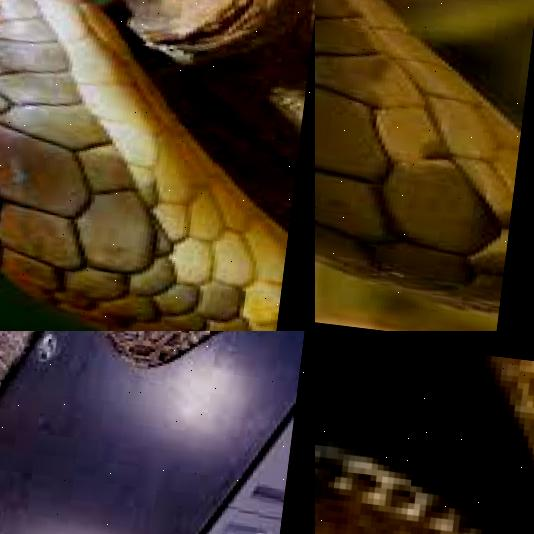snake: (0, 0, 315, 331), (315, 0, 534, 318), (0, 331, 315, 534), (315, 377, 534, 534)
